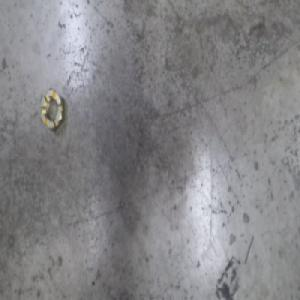Nut: (39, 84, 67, 133)
